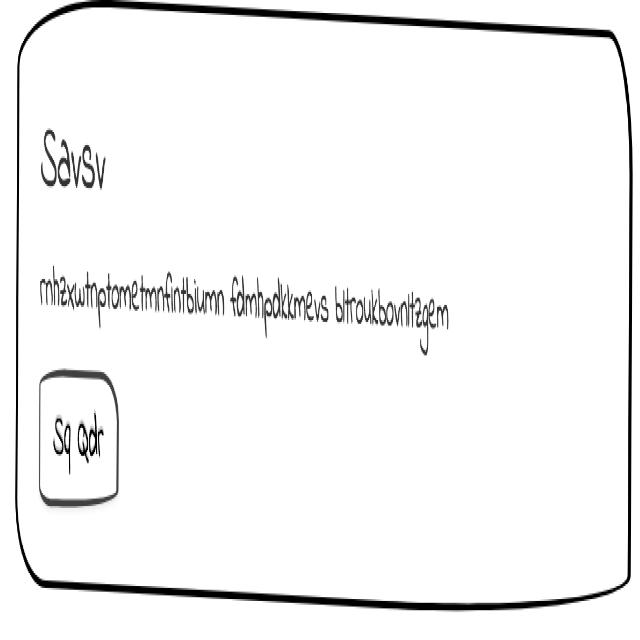Button: (32, 375, 135, 519)
Heading 6: (36, 105, 120, 234)
Paragraph: (35, 238, 455, 360)
